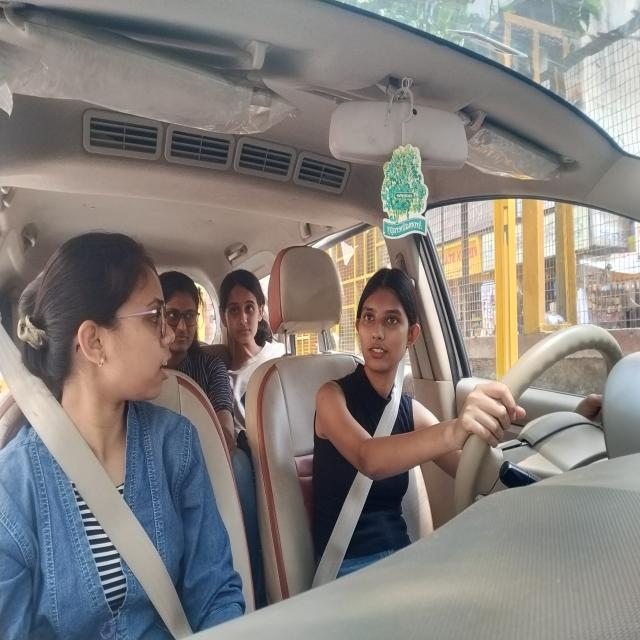LeftRight: (347, 248, 442, 440)
person: (28, 237, 186, 423), (158, 253, 205, 369), (217, 260, 271, 360)
